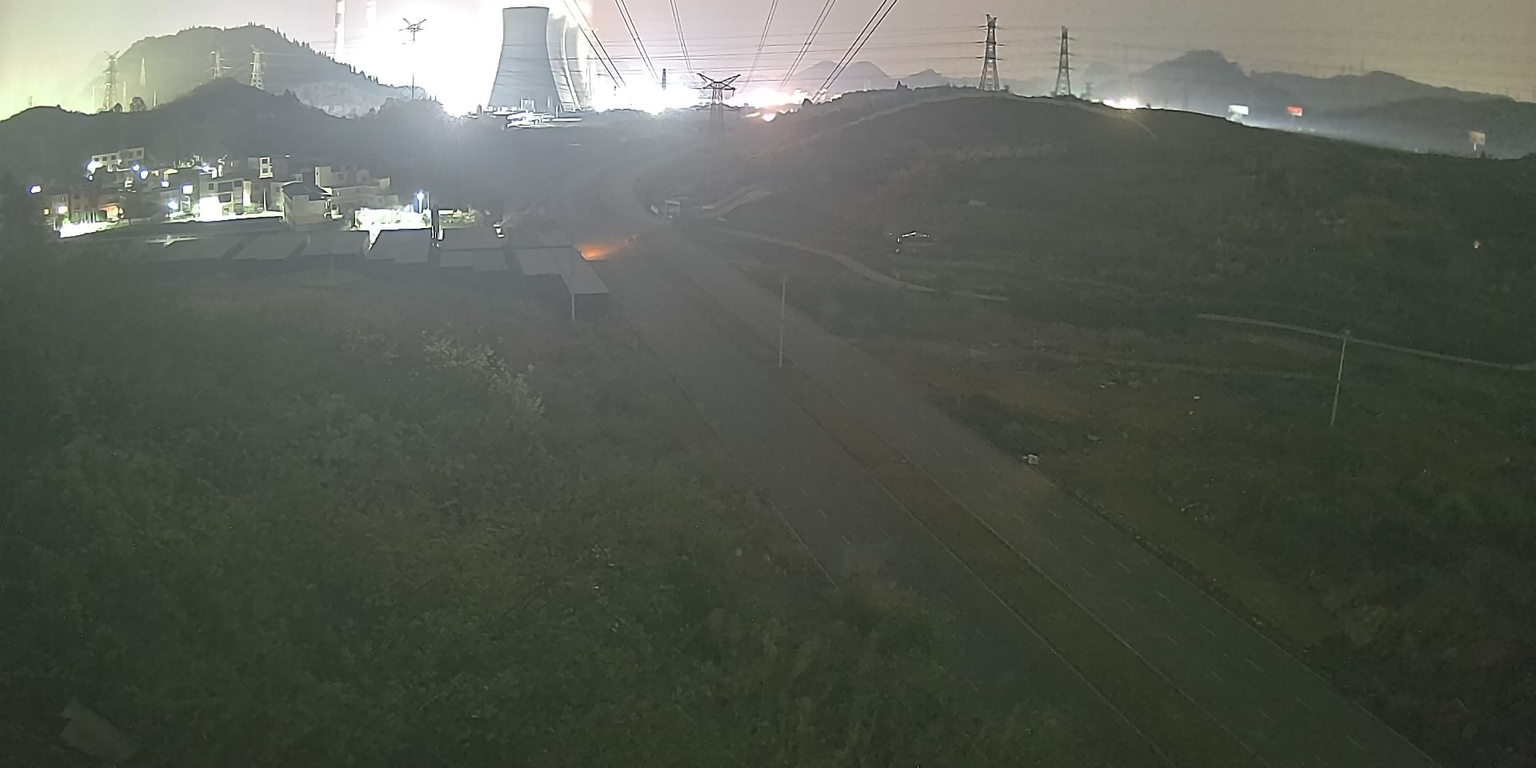工厂排烟: (346, 0, 593, 118)
